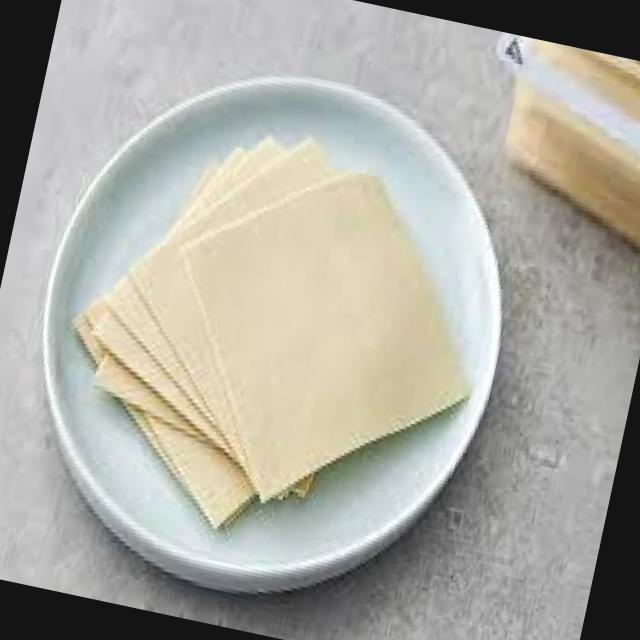tof: (150, 132, 520, 542)
